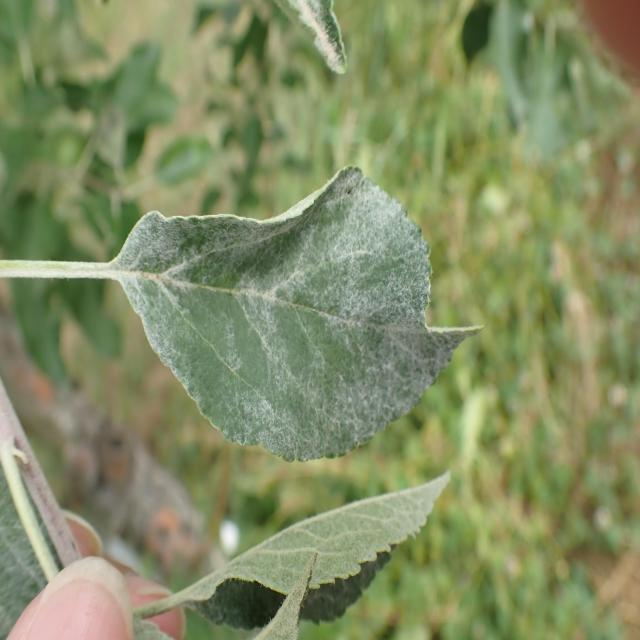healthy: (115, 164, 487, 464)
